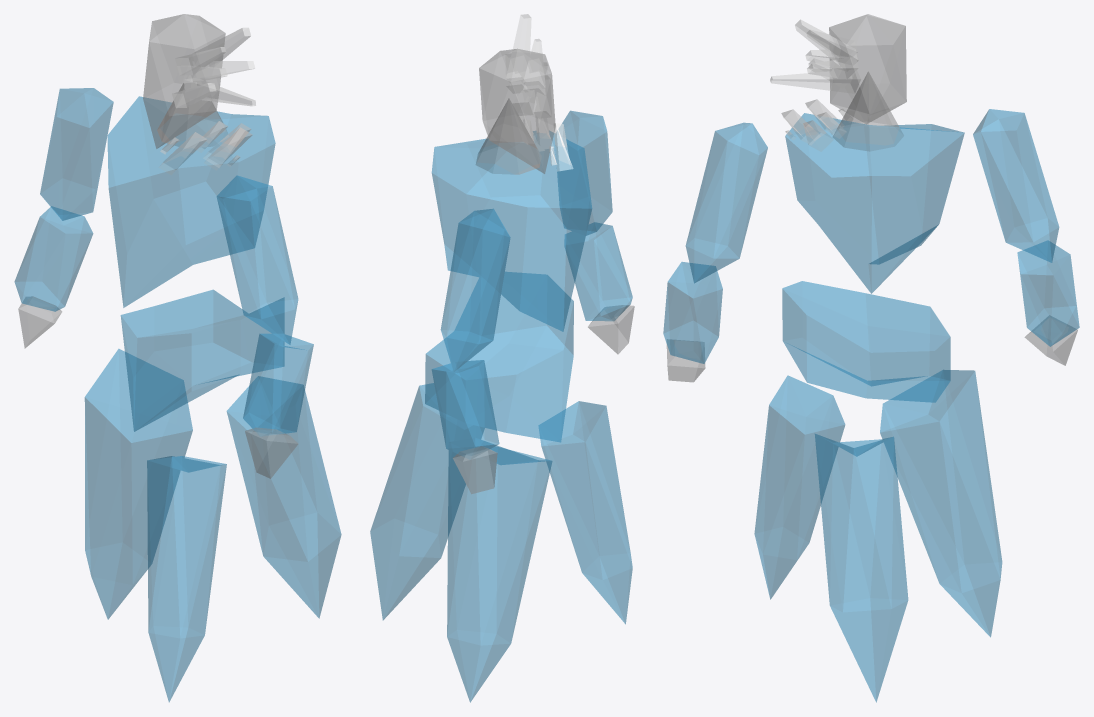
The model's file is ghostIdle38.obj.
3 views of the same model, side by side, from view 1: azimuth 30°, elevation 25°; view 2: azimuth 150°, elevation 25°; view 3: azimuth 270°, elevation 25° (orthographic). The views are drawn at different scales.
Visible parts, largest first — view 1: Cube.001_Cube.001, Icosphere.005, Icosphere.004, Cube_Cube.002, Icosphere.003, Icosphere.005_Icosphere.001, Icosphere.003_Icosphere.001, Icosphere.007_Icosphere.001, Icosphere.006_Icosphere.001, Icosphere.008_Icosphere.001, Cone_Cone.002, Cube.002_Cube.001 (+8 smaller); view 2: Cube.001_Cube.001, Cube_Cube.002, Icosphere.005, Icosphere.004, Icosphere.003, Icosphere.007_Icosphere.001, Icosphere.003_Icosphere.001, Icosphere.005_Icosphere.001, Icosphere.008_Icosphere.001, Icosphere.006_Icosphere.001, Cone_Cone.002, Cube.003_Cube.001 (+6 smaller); view 3: Cube.001_Cube.001, Icosphere.005, Icosphere.004, Cube_Cube.002, Icosphere.003, Icosphere.005_Icosphere.001, Icosphere.007_Icosphere.001, Icosphere.003_Icosphere.001, Icosphere.006_Icosphere.001, Icosphere.008_Icosphere.001, Cone_Cone.002, Cube.003_Cube.001 (+4 smaller).
Part boxes in pixels (left/top/right/bottom): Cube.001_Cube.001: left=107, top=96, right=275, bottom=307; Icosphere.005: left=84, top=349, right=192, bottom=619; Icosphere.004: left=226, top=376, right=341, bottom=618; Cube_Cube.002: left=120, top=289, right=284, bottom=431; Icosphere.003: left=147, top=456, right=226, bottom=702; Icosphere.005_Icosphere.001: left=216, top=175, right=298, bottom=344; Icosphere.003_Icosphere.001: left=143, top=14, right=225, bottom=148; Icosphere.007_Icosphere.001: left=40, top=88, right=113, bottom=220; Icosphere.006_Icosphere.001: left=243, top=333, right=313, bottom=436; Icosphere.008_Icosphere.001: left=14, top=206, right=93, bottom=311; Cone_Cone.002: left=157, top=83, right=227, bottom=147; Cube.002_Cube.001: left=245, top=427, right=298, bottom=478; Cube.001_Cube.001: left=431, top=131, right=592, bottom=331; Cube_Cube.002: left=425, top=272, right=573, bottom=442; Icosphere.005: left=447, top=438, right=552, bottom=702; Icosphere.004: left=370, top=383, right=484, bottom=620; Icosphere.003: left=539, top=401, right=632, bottom=624; Icosphere.007_Icosphere.001: left=440, top=208, right=510, bottom=371; Icosphere.003_Icosphere.001: left=479, top=48, right=555, bottom=173; Icosphere.005_Icosphere.001: left=556, top=110, right=612, bottom=235; Icosphere.008_Icosphere.001: left=431, top=360, right=499, bottom=459; Icosphere.006_Icosphere.001: left=564, top=222, right=632, bottom=320; Cone_Cone.002: left=476, top=98, right=539, bottom=174; Cube.003_Cube.001: left=453, top=446, right=497, bottom=493; Cube.001_Cube.001: left=785, top=113, right=964, bottom=293; Icosphere.005: left=880, top=370, right=1002, bottom=637; Icosphere.004: left=815, top=434, right=908, bottom=702; Cube_Cube.002: left=782, top=281, right=950, bottom=402; Icosphere.003: left=754, top=375, right=845, bottom=599; Icosphere.005_Icosphere.001: left=685, top=122, right=767, bottom=283; Icosphere.007_Icosphere.001: left=973, top=109, right=1059, bottom=262; Icosphere.003_Icosphere.001: left=829, top=14, right=906, bottom=123; Icosphere.006_Icosphere.001: left=663, top=262, right=722, bottom=363; Icosphere.008_Icosphere.001: left=1017, top=241, right=1079, bottom=346; Cone_Cone.002: left=833, top=72, right=903, bottom=151; Cube.003_Cube.001: left=1024, top=315, right=1077, bottom=365.
Size of the model in its own units: 17.04 by 47.49 by 28.19.
